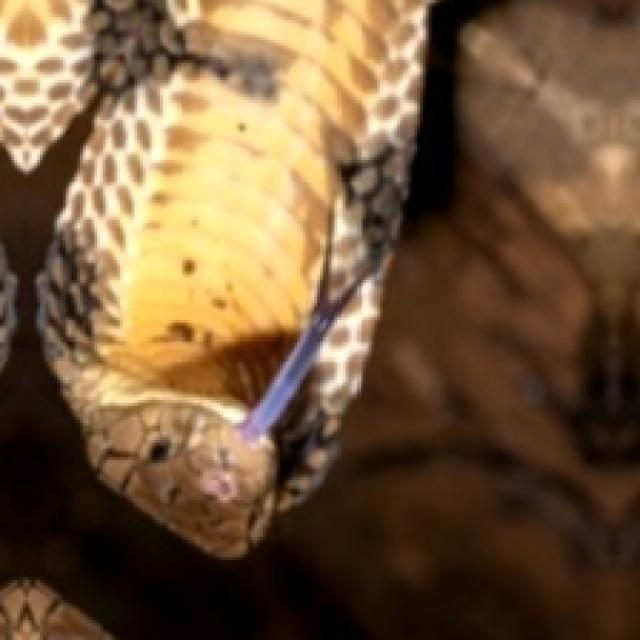king cobra: (40, 0, 423, 551), (354, 0, 637, 566), (234, 240, 366, 446), (0, 0, 89, 166)
